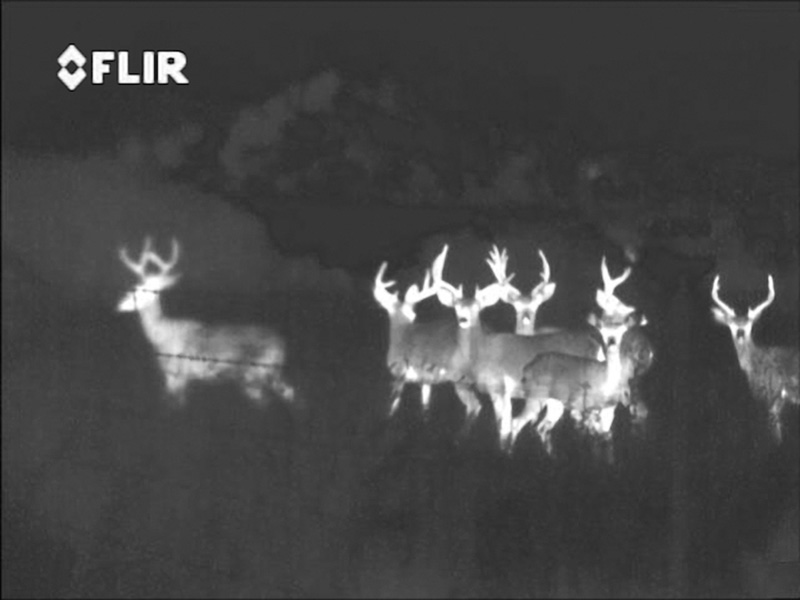cervo: (102, 237, 304, 409), (508, 311, 649, 465), (430, 273, 514, 457), (707, 271, 794, 437), (361, 259, 445, 421), (487, 238, 572, 336), (584, 245, 643, 339)
